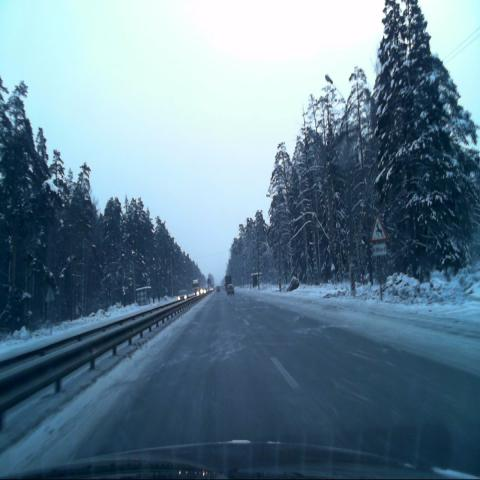1_27: (370, 214, 387, 242)
